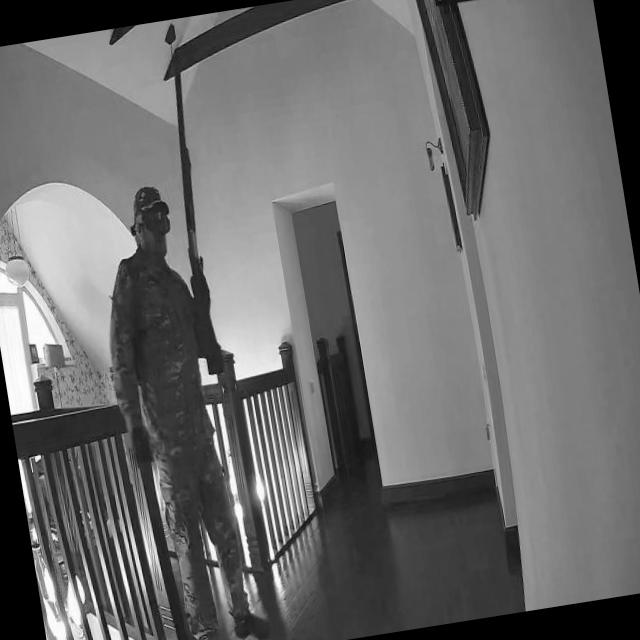gun: (156, 54, 230, 376)
person with a gun: (71, 55, 270, 640)
